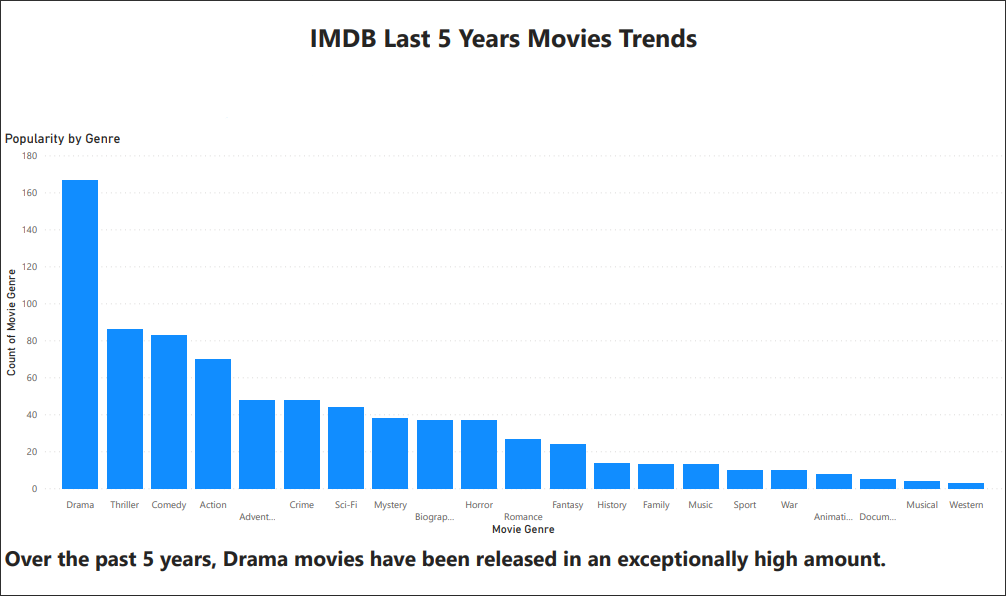

The page's visual inventory and layout, read from the dashboard file:
{"tool":"powerbi","page":{"name":"Page 1","canvas":[1280,720],"ordinal":0},"visuals":[{"type":"textbox","box":[0,665.8,1280,53.7],"z":1000},{"type":"textbox","box":[0,0,1280,145.1],"z":2000},{"type":"clusteredColumnChart","title":"Popularity by Genre","fields":{"Category":["movie_genre.Movie Genre"],"Y":["CountNonNull(movie_genre.Movie Genre)"]},"box":[0,145.1,1280,520.7],"z":4000}]}

Visuals, with their boxes on the page's 1280x720 design canvas (x1, y1, x2, y2). These are canvas units, not pixel positions in the 1006x596 screenshot, which may show the page scaled, cropped or inside an application window:
textbox: x1=0, y1=666, x2=1280, y2=720
textbox: x1=0, y1=0, x2=1280, y2=145
"Popularity by Genre" clusteredColumnChart: x1=0, y1=145, x2=1280, y2=666
